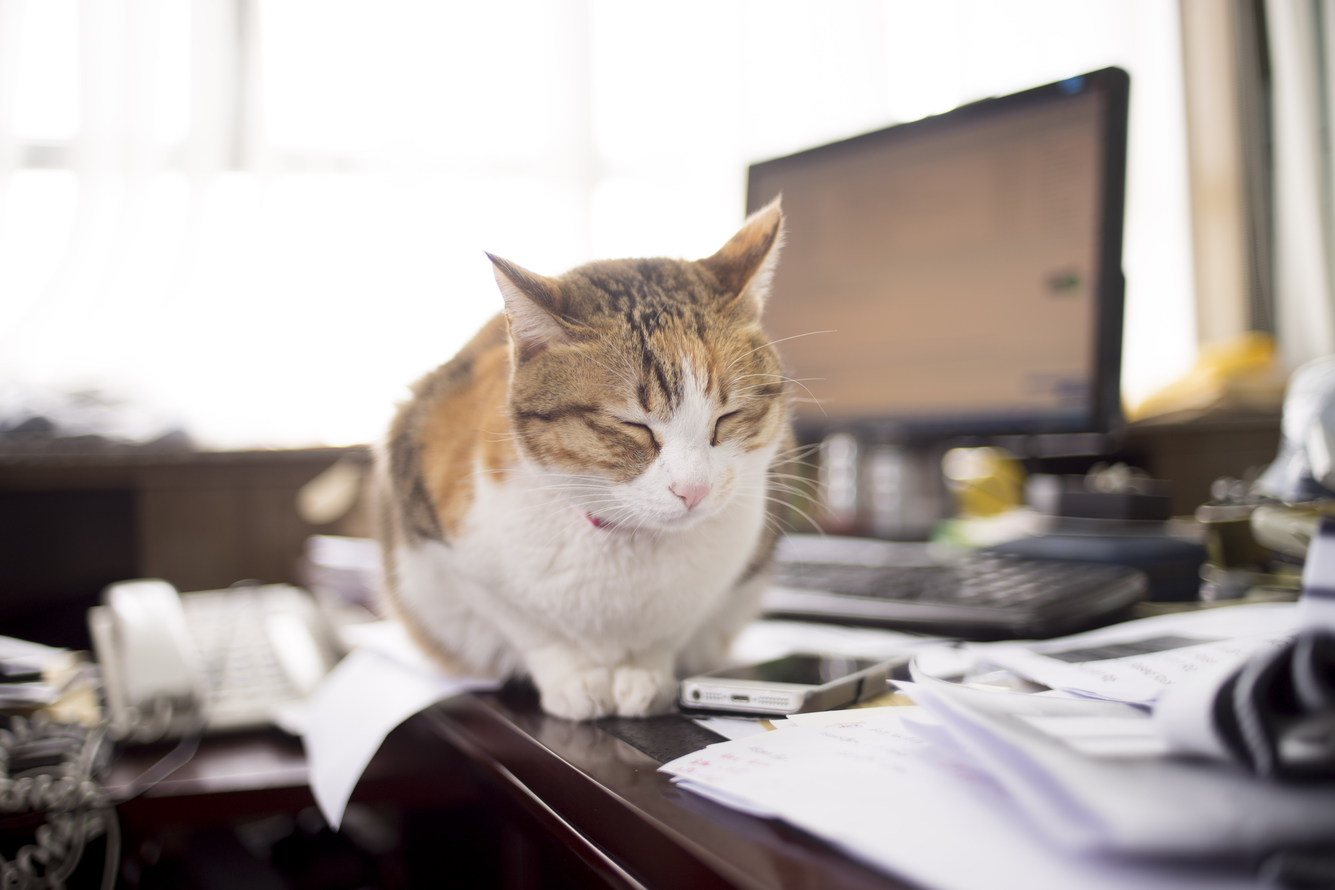cat: (366, 185, 844, 721)
